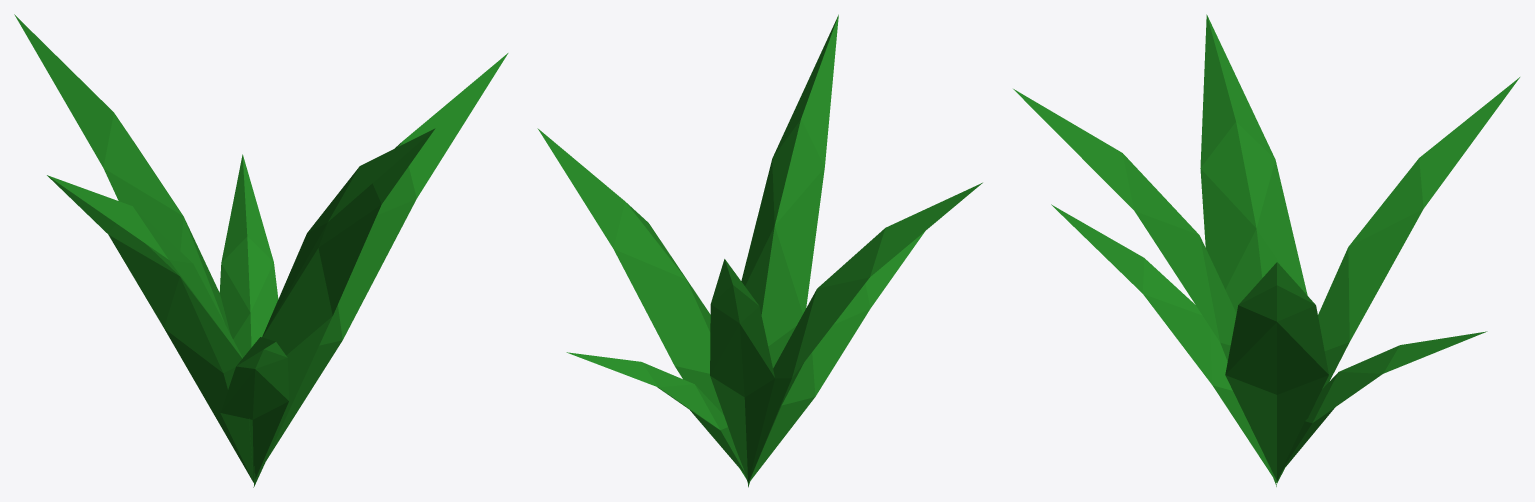
The model's file is Hilly_Prop_Grass_Clump_4.obj.
The picture shows the model from 3 angles, left to right: view 1: azimuth 30°, elevation 25°; view 2: azimuth 150°, elevation 25°; view 3: azimuth 270°, elevation 25°; orthographic projection. The views are drawn at different scales.
Visible parts, largest first — view 1: object3, object6, object5, object4, object1, object2; view 2: object3, object5, object4, object6, object2, object1; view 3: object6, object5, object4, object3, object2, object1.
Boxes of the visible parts, bbox=[...] form: object3: bbox=[253, 128, 435, 487]; object6: bbox=[47, 175, 252, 480]; object5: bbox=[266, 53, 508, 460]; object4: bbox=[14, 14, 230, 333]; object1: bbox=[219, 154, 278, 357]; object2: bbox=[220, 337, 288, 482]; object3: bbox=[741, 14, 838, 487]; object5: bbox=[537, 128, 745, 477]; object4: bbox=[710, 259, 774, 483]; object6: bbox=[748, 182, 982, 482]; object2: bbox=[748, 231, 924, 483]; object1: bbox=[566, 352, 744, 473]; object6: bbox=[1200, 14, 1307, 483]; object5: bbox=[1225, 262, 1328, 480]; object4: bbox=[1277, 77, 1519, 482]; object3: bbox=[1013, 89, 1276, 486]; object2: bbox=[1051, 204, 1276, 482]; object1: bbox=[1281, 331, 1487, 470].
Bounding box in the file's own units: 0.5868 × 0.512 × 0.5676.
